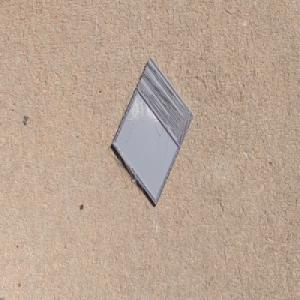PlasticPart: (111, 56, 195, 206)
